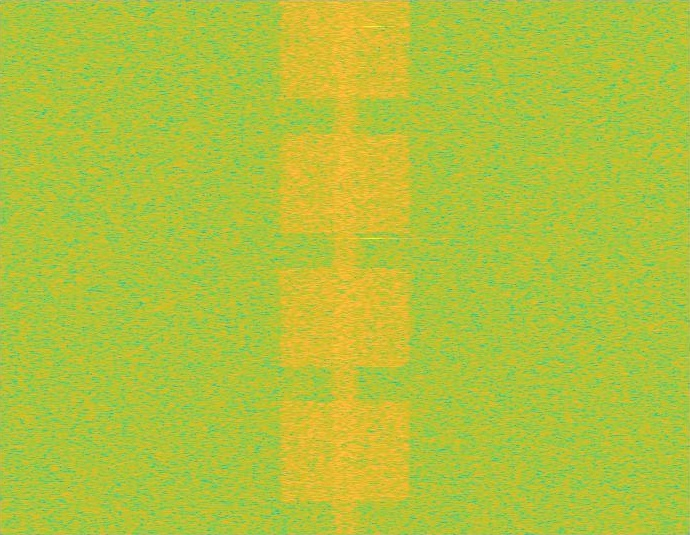5G: (276, 0, 414, 534)
DSSS: (329, 0, 361, 534)
Radar: (366, 0, 380, 534)
